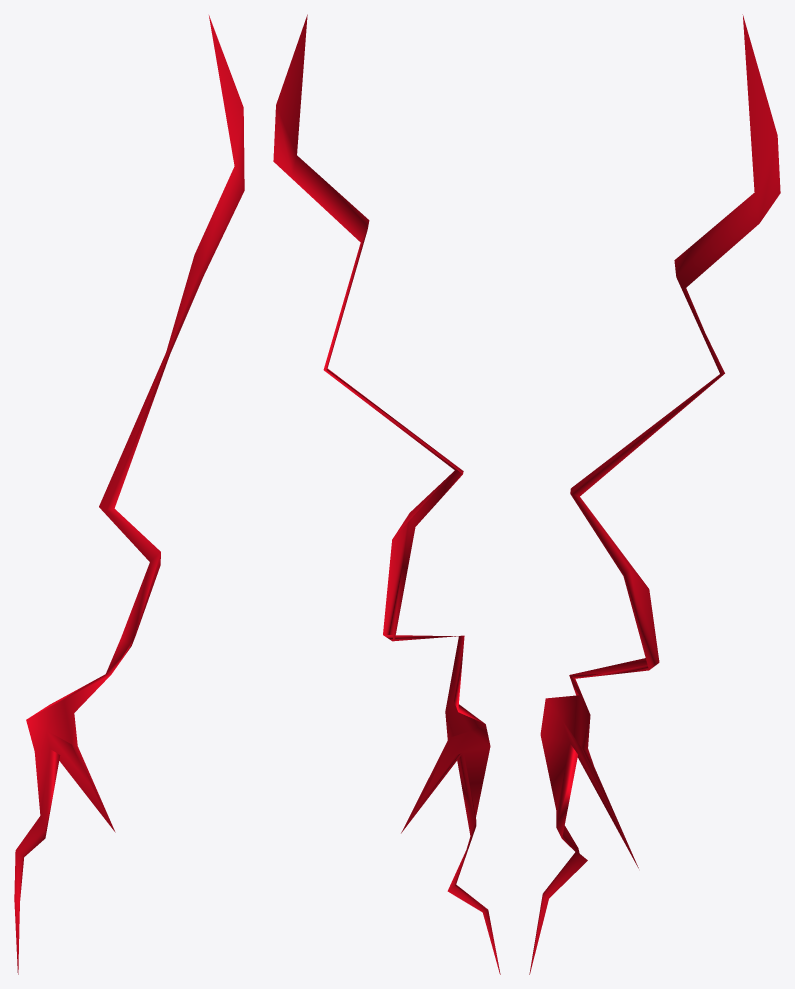
Rendered from cgwell1_light_002.FBX.
3 views of the same model, side by side, from view 1: azimuth 30°, elevation 25°; view 2: azimuth 150°, elevation 25°; view 3: azimuth 330°, elevation 25° (orthographic). The views are drawn at different scales.
Visible parts, largest first — view 1: Plane002; view 2: Plane002; view 3: Plane002.
Boxes of the visible parts, <box> form: Plane002: <box>14,15,244,974</box>; Plane002: <box>273,14,500,974</box>; Plane002: <box>529,14,780,974</box>.
Bounding box in the file's own units: 47.6 × 185 × 18.19.
